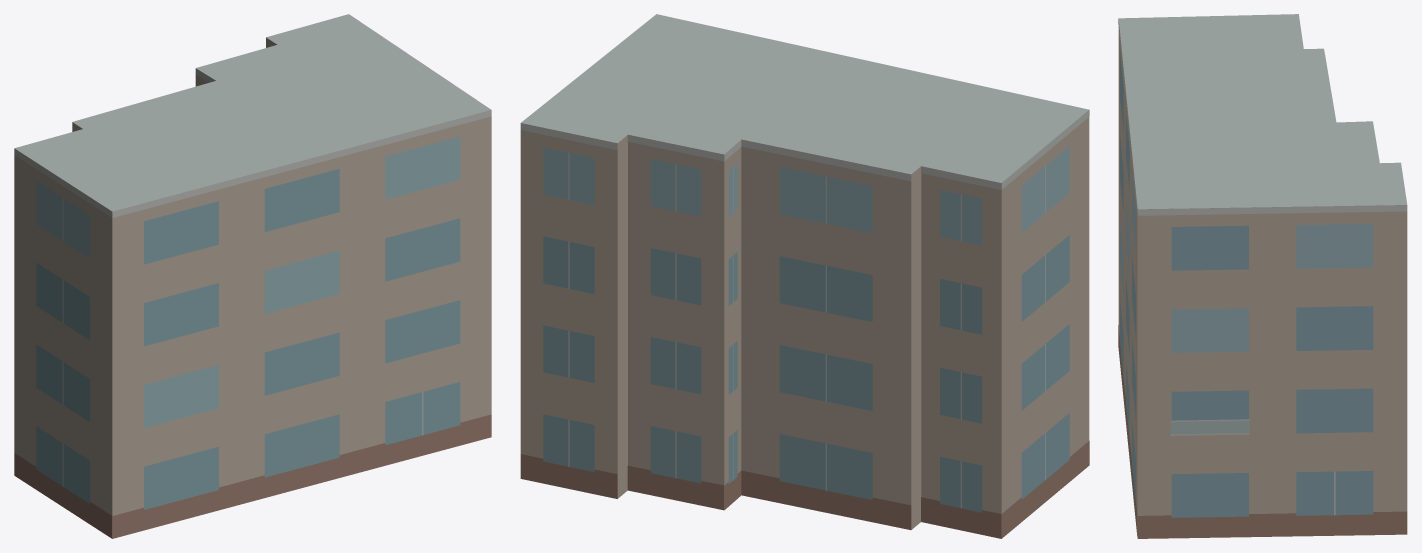
Rendered from survey-upis-32802907.glb.
The picture shows the model from 3 angles, left to right: view 1: azimuth 30°, elevation 25°; view 2: azimuth 150°, elevation 25°; view 3: azimuth 270°, elevation 25°; orthographic projection. The views are drawn at different scales.
Parts seen in each view (by area): view 1: survey-upis-32802907.tmp; view 2: survey-upis-32802907.tmp; view 3: survey-upis-32802907.tmp.
Part boxes in pixels (bbox=[...]): survey-upis-32802907.tmp: bbox=[14, 14, 491, 538]; survey-upis-32802907.tmp: bbox=[520, 14, 1089, 538]; survey-upis-32802907.tmp: bbox=[1118, 14, 1407, 538].
Size of the model in its own units: 15.77 by 12.4 by 9.85.
